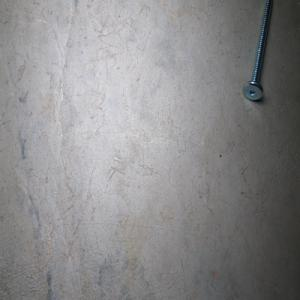Bolt: (242, 0, 273, 100)
